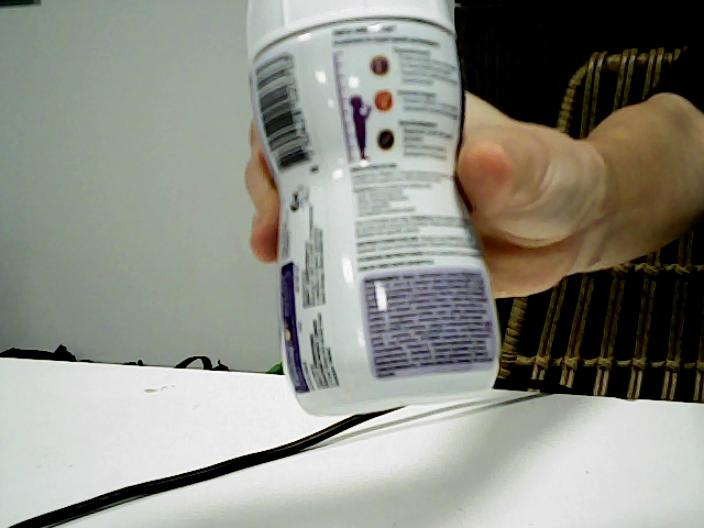Babyfood_200-299g_Halal_NonHealthy: (267, 1, 497, 401)
